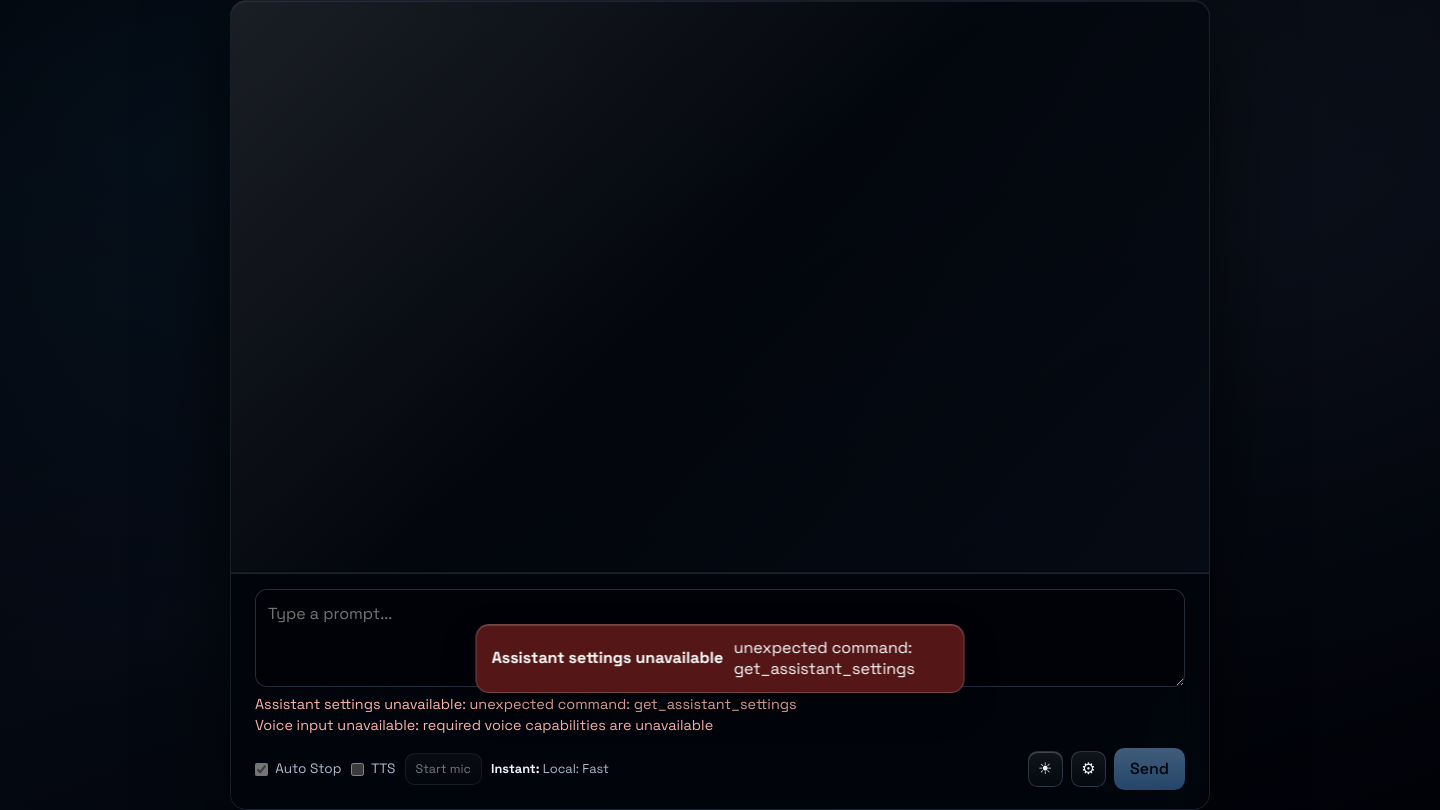
it: App › reverts theme and shows a notice when theme persistence fails
Step 1. Click the button "☀" → [1045, 769], box [1028,751,1063,787]
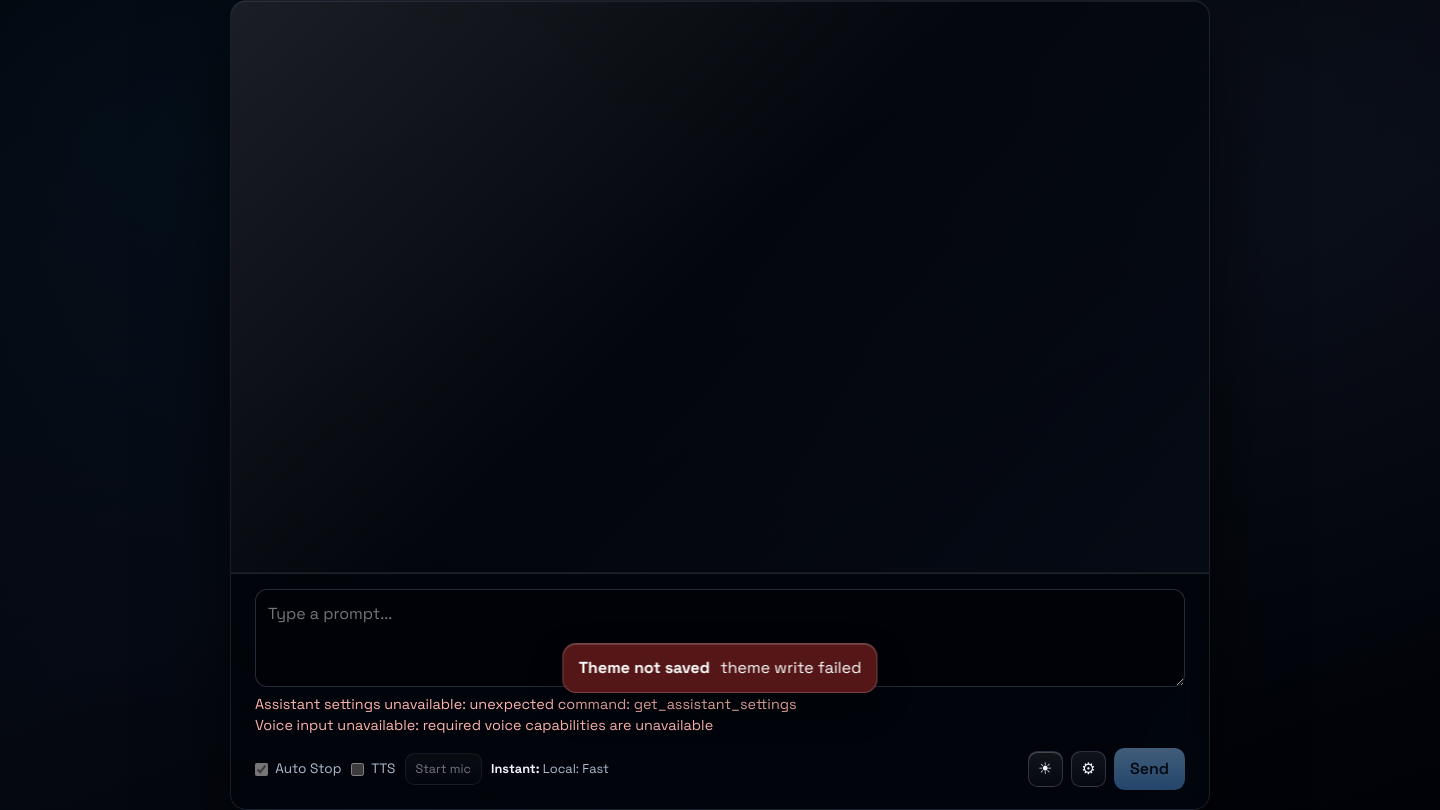
expect the text "Theme not saved" is shown: met, box [579,656,710,680]
expect the text "theme write failed" is shown: met, box [720,657,862,679]
